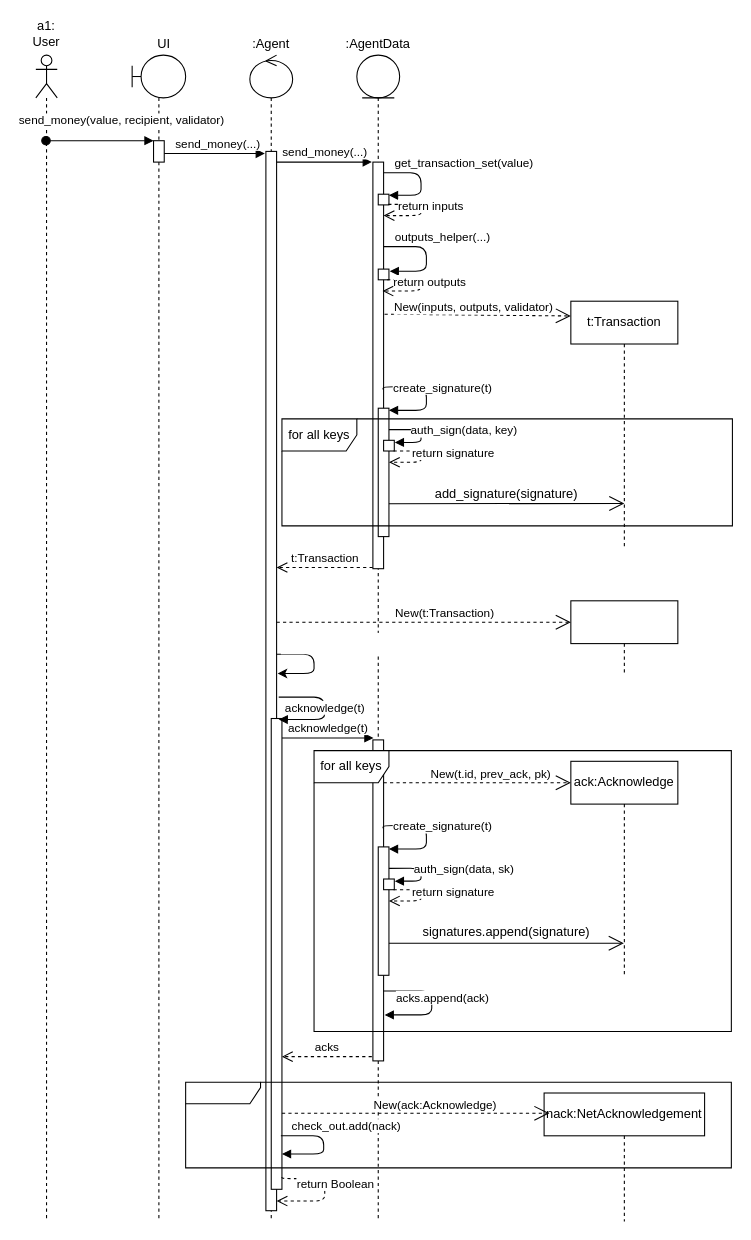
Some shapes in this 751 by 1240 pixel diagram are drawn without their labels. The shapes that lost their labels are listed below. From the top down, each one's centre as x and y in pixels, then its label:
At point 337,643: "check_out.add(nt)".
At point 624,638: "nt:NetTransaction".
At point 458,1124: "for all acks".
